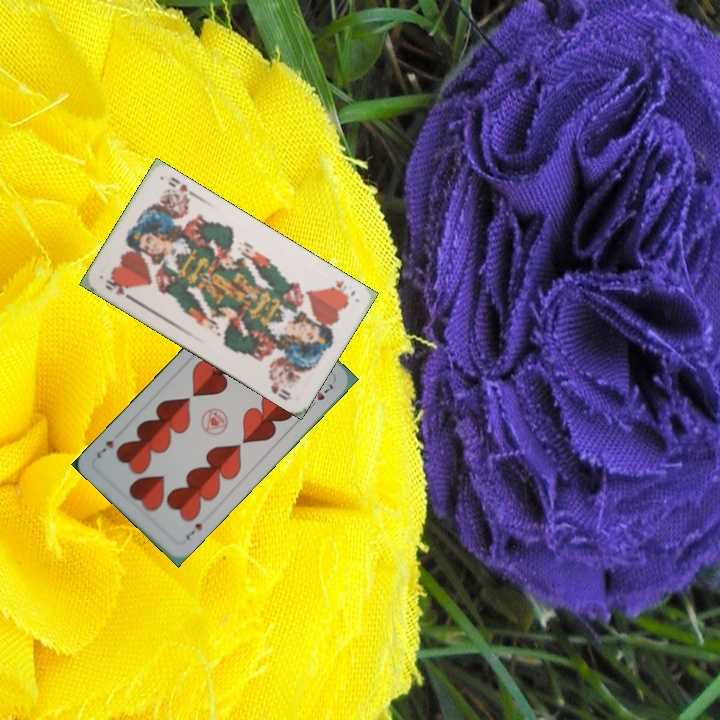H7: (182, 519, 204, 543)
HO: (101, 275, 136, 303), (325, 276, 358, 301)
